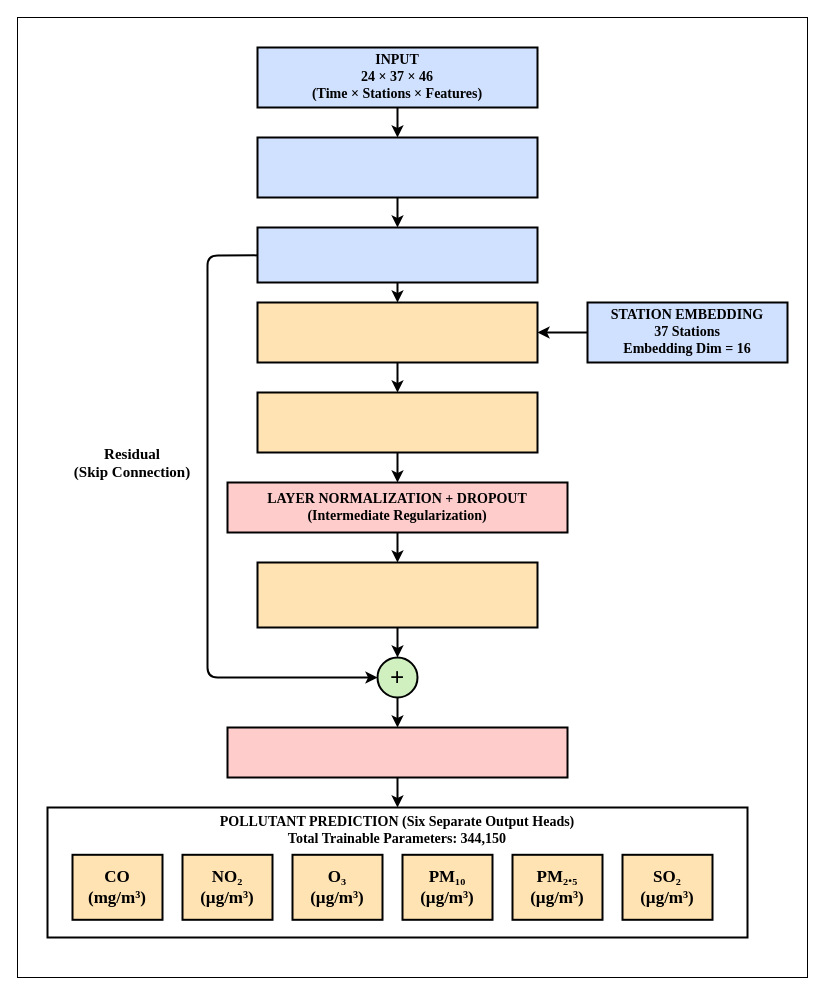
The diagram is 825 pixels wide and 995 high, and some of its shapes have lost their labels. Here are the shapes that lost their labels. From the top down, the centre of each, then its label:
point 397,167: LSTM ENCODER 2 Layers | Hidden Size = 128 (Temporal Modeling)
point 397,254: LSTM Representation (37 Stations × 128)
point 397,332: CONCATENATE (LSTM Representation + Station Embedding)
point 397,422: GATv2 LAYER 1 4 Attention Heads (Spatial Modeling)
point 397,594: GATv2 LAYER 2 128-Dimensional Representation (Spatial Modeling)
point 397,752: LAYER NORMALIZATION + DROPOUT (Residual Output Regularization)
